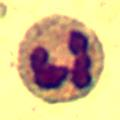neutrophil: (16, 13, 106, 104)
